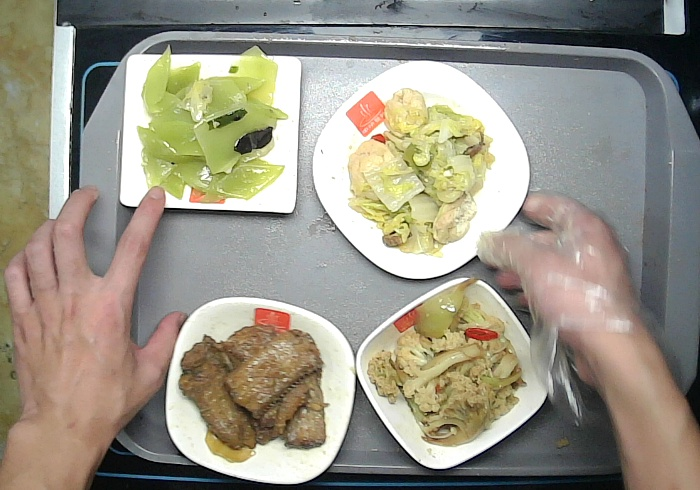SHKJ-Bai_Se_Cai_Die: (162, 297, 358, 484)
SHKJ-Bai_Se_Si_Fang_Cai_Die: (312, 60, 533, 282)
SHKJ-Bai_Se_Xiao_Fang_Die: (356, 276, 550, 471)
SHKJ-Si_Fang_Min: (121, 51, 301, 215)
